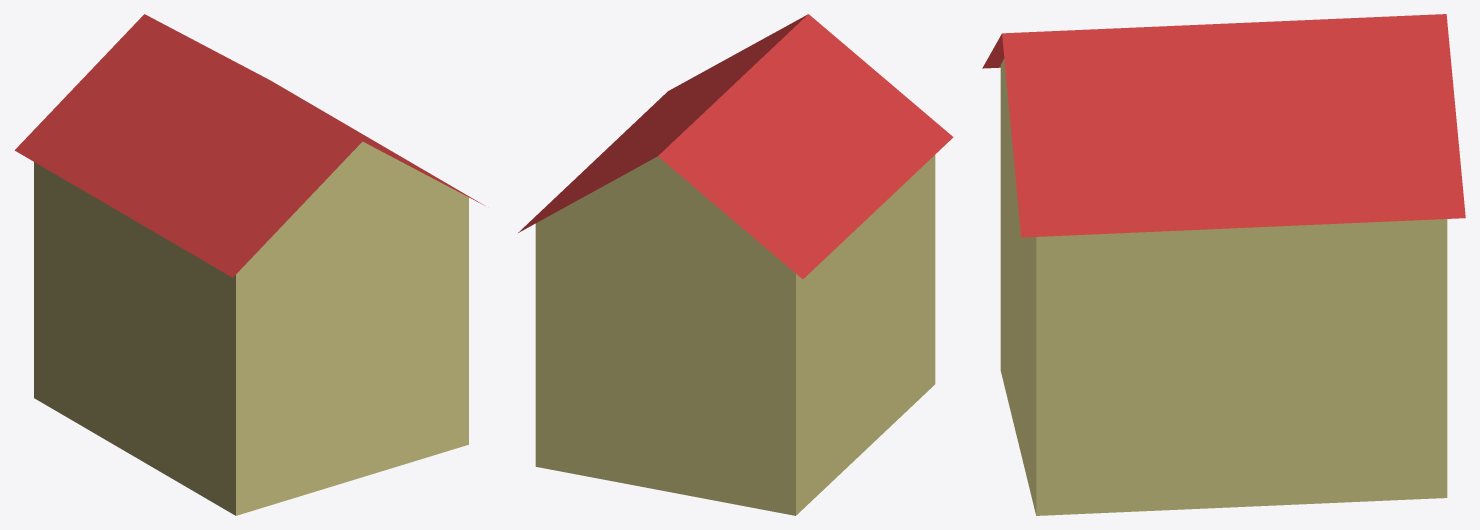
3 views of the same model, side by side, from view 1: azimuth 30°, elevation 25°; view 2: azimuth 150°, elevation 25°; view 3: azimuth 270°, elevation 25° (orthographic). The views are drawn at different scales.
Size of the model in its own units: 6.26 by 7.16 by 6.73.
